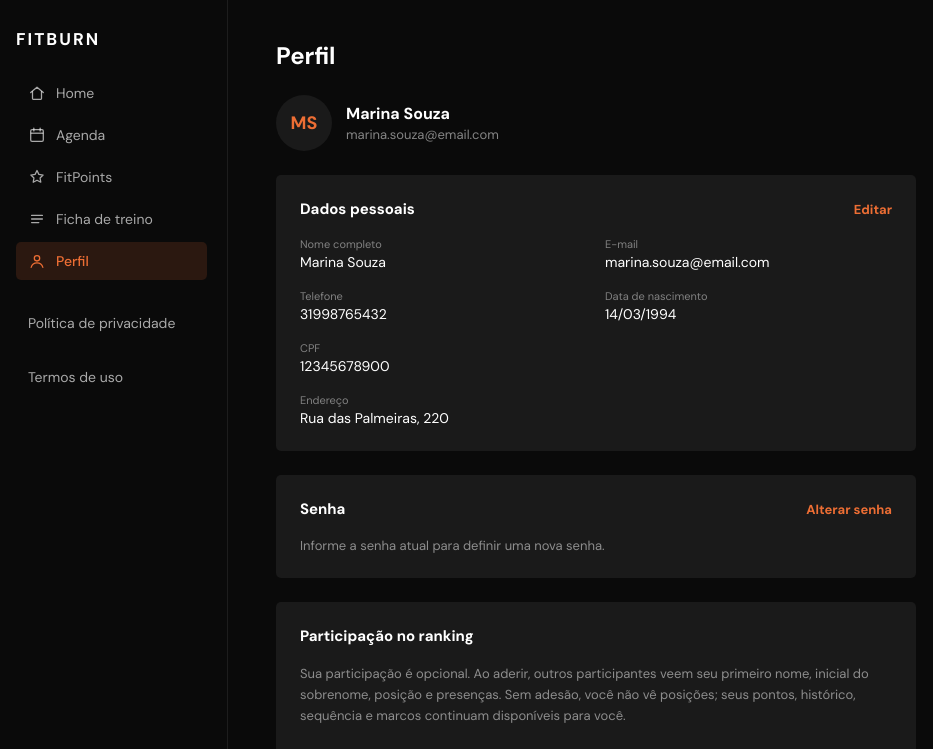
Test: Perfil / Minha conta › cliente › valida o formato antes de enviar
The width and height of the screenshot is (933, 749).
Click the button "Editar" at {"x": 873, "y": 209}, box [854,200,892,218]
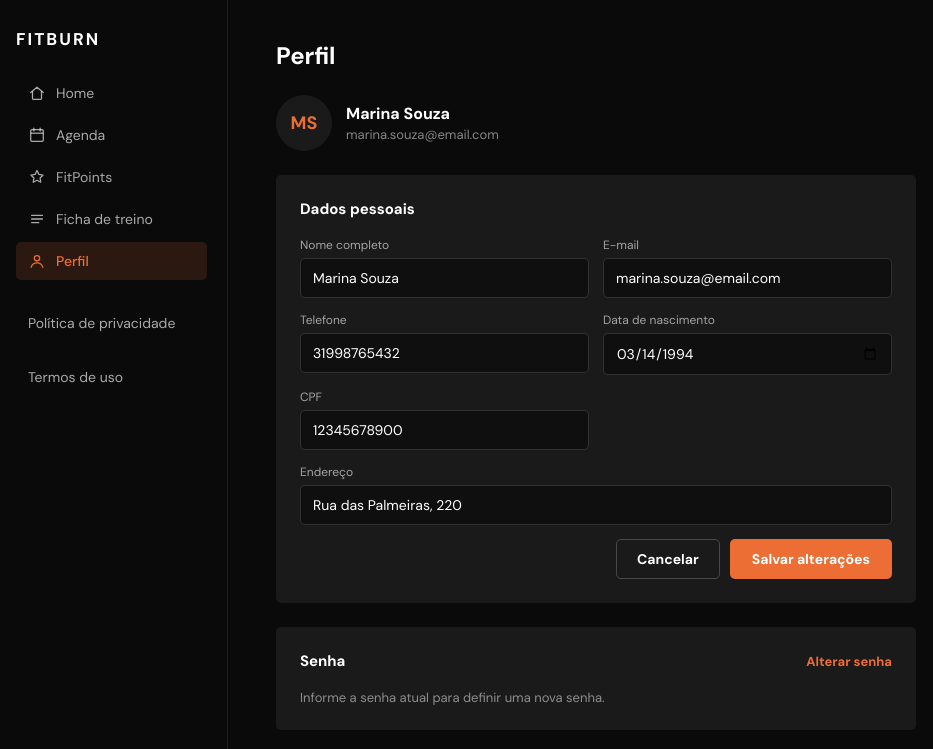
Replace the text in the field labelled "E-mail" with "isso-nao-e-email" at {"x": 748, "y": 278}, box [603,258,892,298]
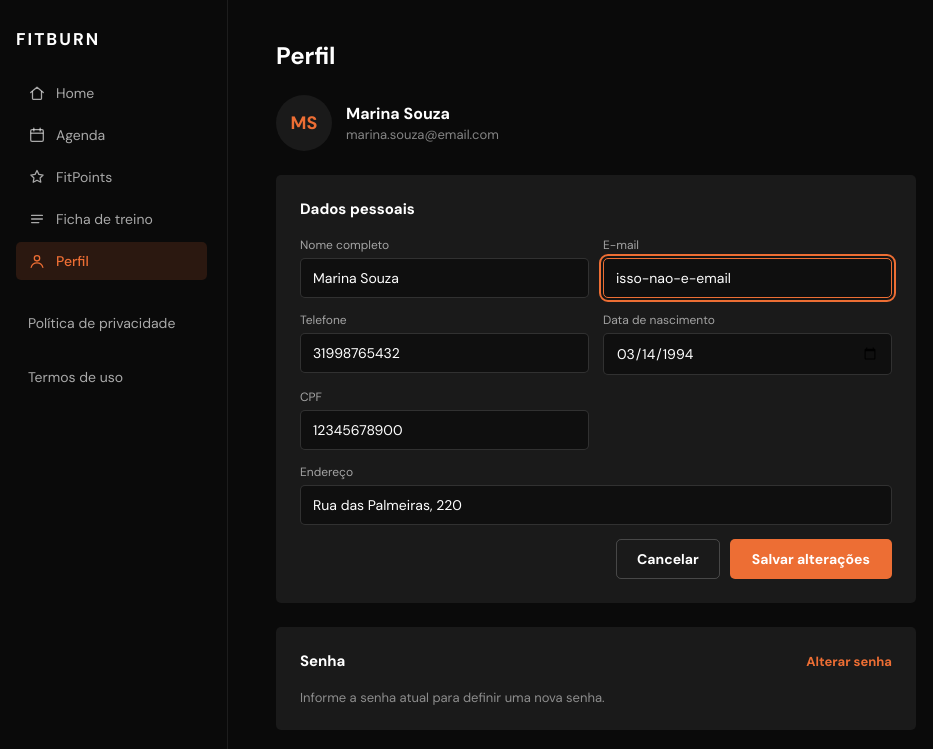
Click the button "Salvar alterações" at {"x": 811, "y": 559}, box [730,539,892,579]
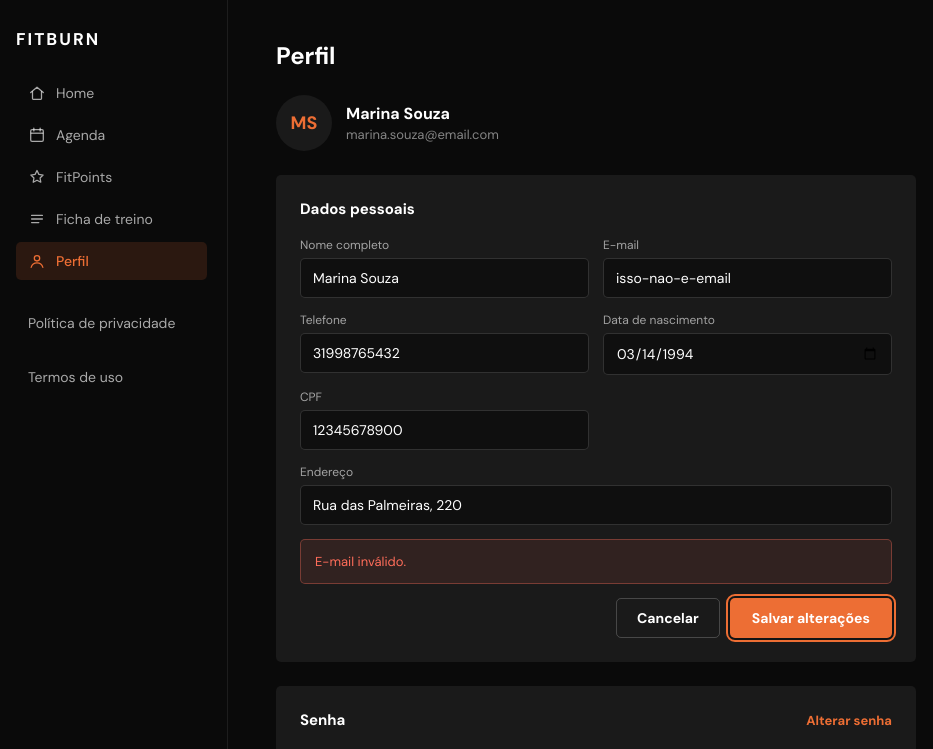
Check: the message reads "E-mail inválido.", box [315,553,406,570]
